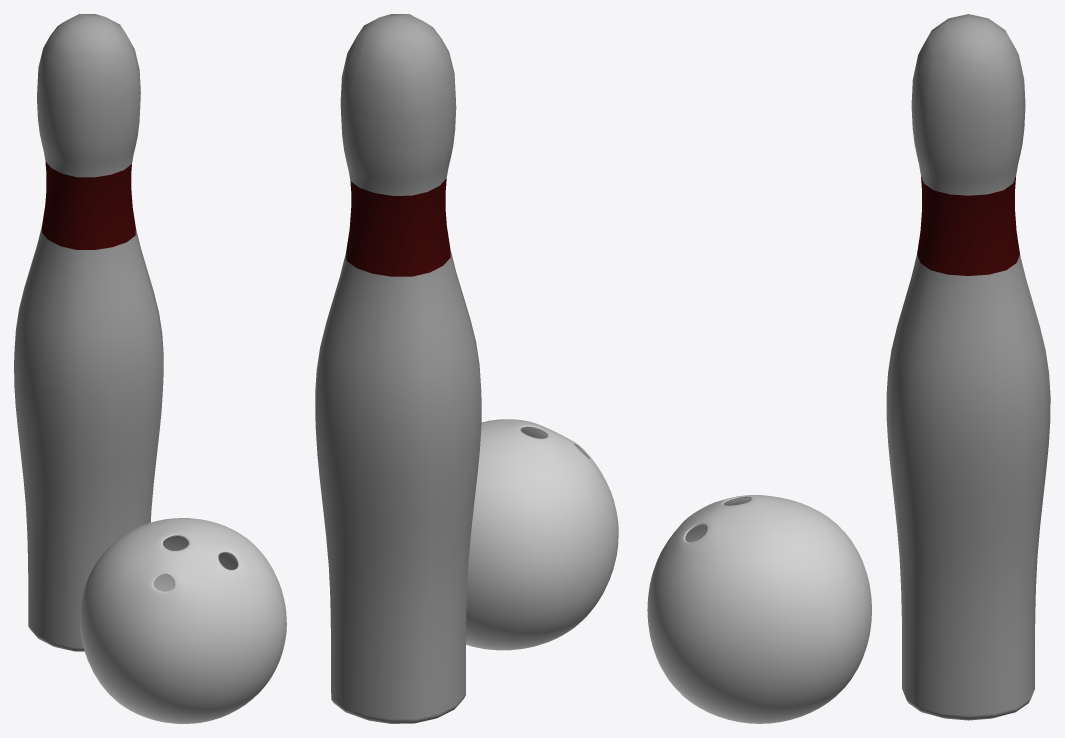
The model's file is A Bowing Ball And A Pin.obj.
3 renders of one model, left to right at view 1: azimuth 30°, elevation 25°; view 2: azimuth 150°, elevation 25°; view 3: azimuth 270°, elevation 25°, orthographic. The views are drawn at different scales.
Visible parts, largest first — view 1: Cube.001_Cube.003, Cube_Cube.002; view 2: Cube.001_Cube.003, Cube_Cube.002; view 3: Cube.001_Cube.003, Cube_Cube.002.
Boxes of the visible parts, left/top/right/bottom form: Cube.001_Cube.003: left=14, top=14, right=163, bottom=651; Cube_Cube.002: left=79, top=518, right=286, bottom=723; Cube.001_Cube.003: left=315, top=14, right=481, bottom=723; Cube_Cube.002: left=466, top=419, right=618, bottom=650; Cube.001_Cube.003: left=886, top=14, right=1050, bottom=720; Cube_Cube.002: left=647, top=495, right=871, bottom=723.
Size of the model in its own units: 1.68 by 5.73 by 3.02.
